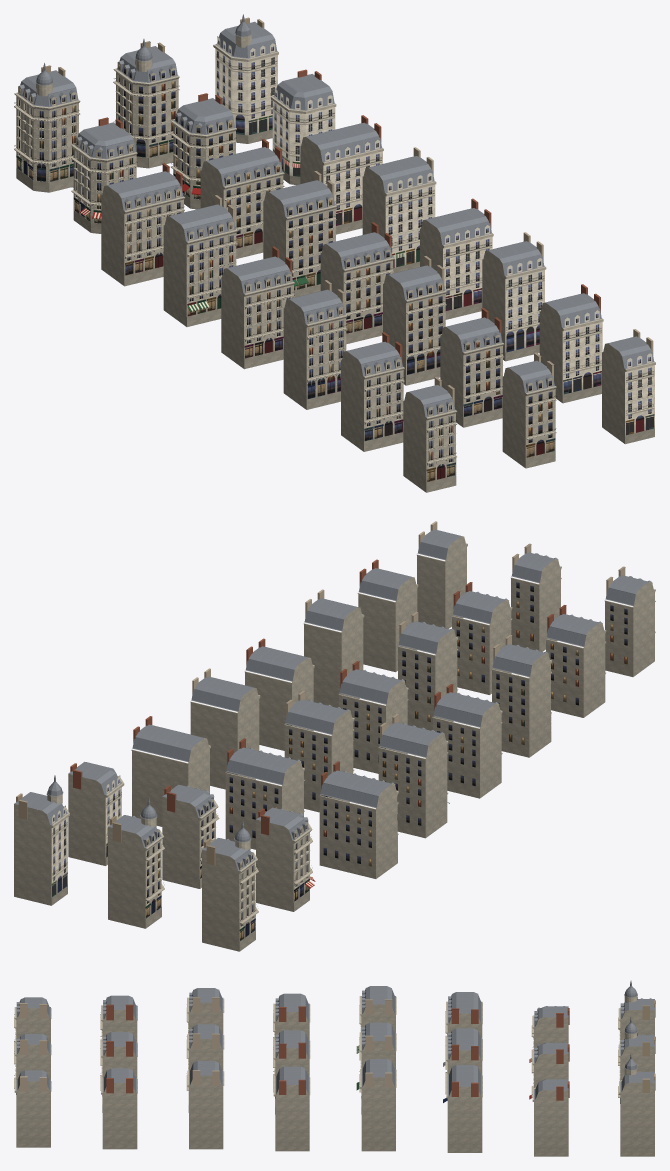
File: haussmann_medium.glb
3 views of the same model, one above another, from view 1: azimuth 30°, elevation 25°; view 2: azimuth 150°, elevation 25°; view 3: azimuth 270°, elevation 25° (orthographic). The views are drawn at different scales.
Parts seen in each view (by area): view 1: lot5b_near, lot6a_near, corner_b_near, lot5a_near, lot4b_near, lot4a_near, corner_b_mid, corner_b_far, lot5b_far, lot5b_mid, lot4b_mid, lot4b_far (+12 smaller); view 2: lot6a_near, lot5b_near, corner_b_mid, corner_b_near, corner_b_far, lot5a_near, lot4b_near, lot4a_near, lot6a_mid, lot6a_far, corner_a_near, lot5b_mid (+12 smaller); view 3: lot5b_far, corner_b_far, lot6a_far, lot4b_far, lot5a_far, lot4a_far, corner_a_far, lot3a_far, lot6a_mid, lot5b_mid, lot4b_mid, corner_a_mid (+12 smaller).
Boxes of the visible parts, bbox=[...] form: lot5b_near: bbox=[163, 195, 237, 326]; lot6a_near: bbox=[101, 163, 185, 286]; corner_b_near: bbox=[14, 63, 80, 192]; lot5a_near: bbox=[221, 246, 294, 369]; lot4b_near: bbox=[283, 280, 347, 409]; lot4a_near: bbox=[341, 332, 404, 451]; corner_b_mid: bbox=[113, 39, 179, 168]; corner_b_far: bbox=[213, 14, 278, 143]; lot5b_far: bbox=[362, 147, 436, 273]; lot5b_mid: bbox=[263, 171, 336, 297]; lot4b_mid: bbox=[383, 256, 446, 385]; lot4b_far: bbox=[482, 232, 546, 361]; lot6a_near: bbox=[319, 761, 398, 878]; lot5b_near: bbox=[378, 713, 449, 838]; corner_b_mid: bbox=[108, 798, 164, 928]; corner_b_near: bbox=[202, 821, 258, 951]; corner_b_far: bbox=[14, 775, 69, 905]; lot5a_near: bbox=[432, 684, 502, 798]; lot4b_near: bbox=[491, 634, 551, 757]; lot4a_near: bbox=[545, 605, 606, 717]; lot6a_mid: bbox=[225, 738, 304, 849]; lot6a_far: bbox=[131, 716, 210, 826]; corner_a_near: bbox=[256, 807, 315, 911]; lot5b_mid: bbox=[284, 691, 354, 812]; lot5b_far: bbox=[360, 1059, 396, 1151]; corner_b_far: bbox=[619, 1053, 655, 1156]; lot6a_far: bbox=[446, 1065, 482, 1152]; lot4b_far: bbox=[187, 1061, 224, 1149]; lot5a_far: bbox=[273, 1066, 310, 1151]; lot4a_far: bbox=[101, 1068, 137, 1149]; corner_a_far: bbox=[532, 1079, 569, 1156]; lot3a_far: bbox=[14, 1070, 51, 1147]; lot6a_mid: bbox=[443, 1028, 482, 1102]; lot5b_mid: bbox=[356, 1022, 396, 1114]; lot4b_mid: bbox=[186, 1024, 224, 1112]; corner_a_mid: bbox=[529, 1042, 569, 1099].
Size of the model in its own units: 81.31 by 35.8 by 223.
Materials: 14 (13 with a texture image).
